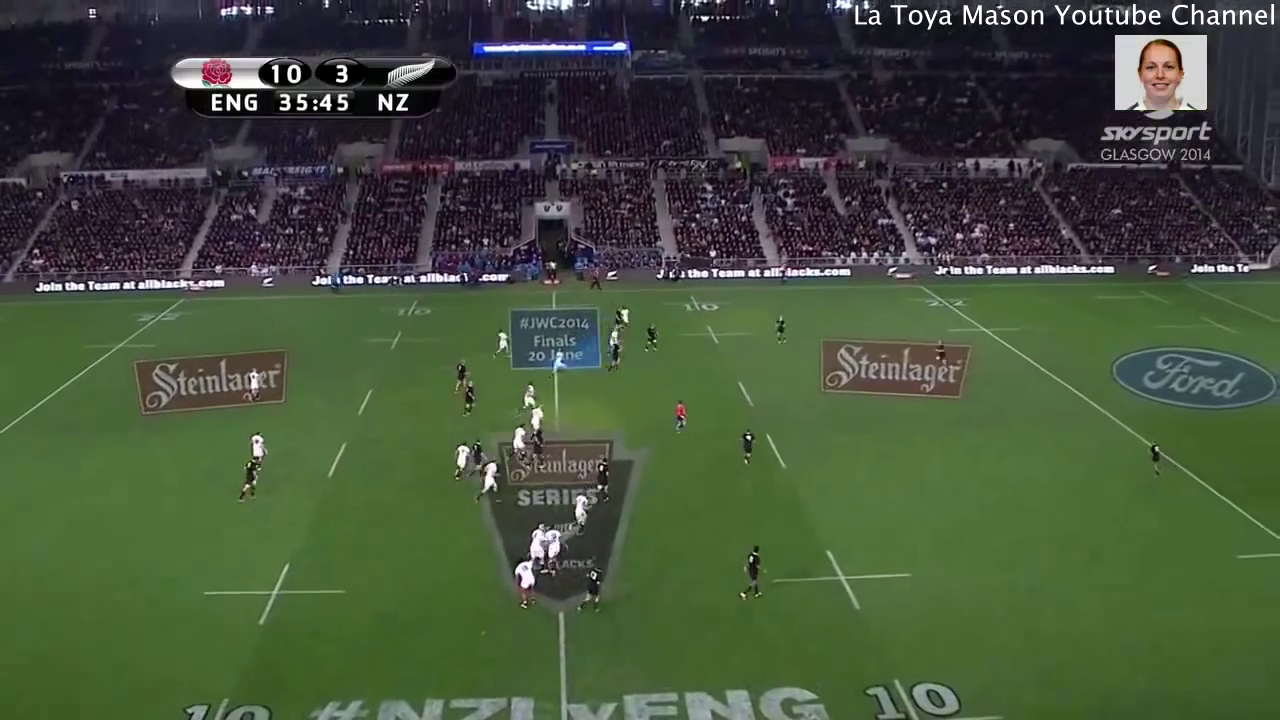10_metre: (197, 558, 350, 634), (771, 550, 920, 626), (665, 294, 733, 320), (368, 329, 436, 354), (381, 297, 445, 323)
player: (738, 541, 765, 607), (509, 557, 540, 612), (234, 463, 263, 509), (577, 565, 602, 612), (526, 518, 546, 572), (542, 525, 563, 576), (568, 492, 590, 536), (481, 458, 501, 505), (602, 339, 628, 373), (593, 456, 611, 504), (489, 326, 512, 362), (736, 426, 757, 465), (246, 428, 269, 463), (244, 367, 264, 406), (450, 356, 469, 394), (642, 320, 662, 356), (670, 400, 689, 437), (458, 376, 477, 412), (451, 440, 467, 482), (1148, 436, 1164, 476), (528, 404, 549, 434), (510, 423, 527, 460), (519, 380, 537, 413), (548, 348, 569, 376), (469, 437, 483, 479), (774, 313, 789, 349), (531, 428, 545, 463), (608, 306, 621, 335), (605, 329, 623, 348), (619, 306, 633, 326)
